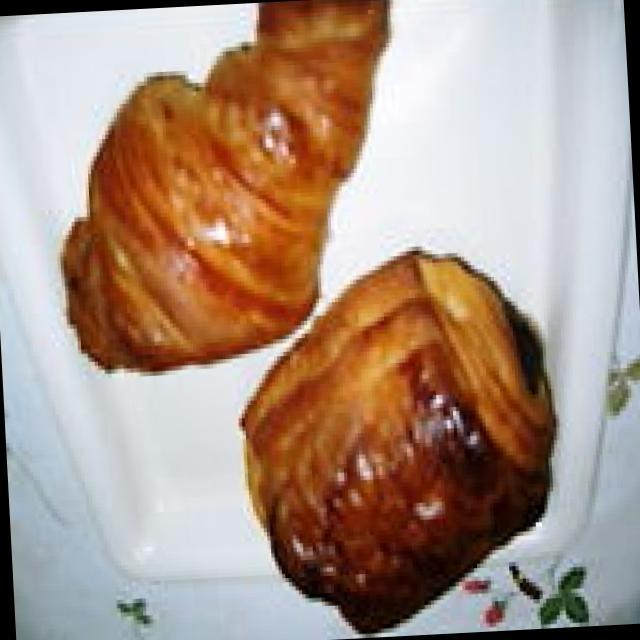Croissant: (53, 0, 375, 361)
